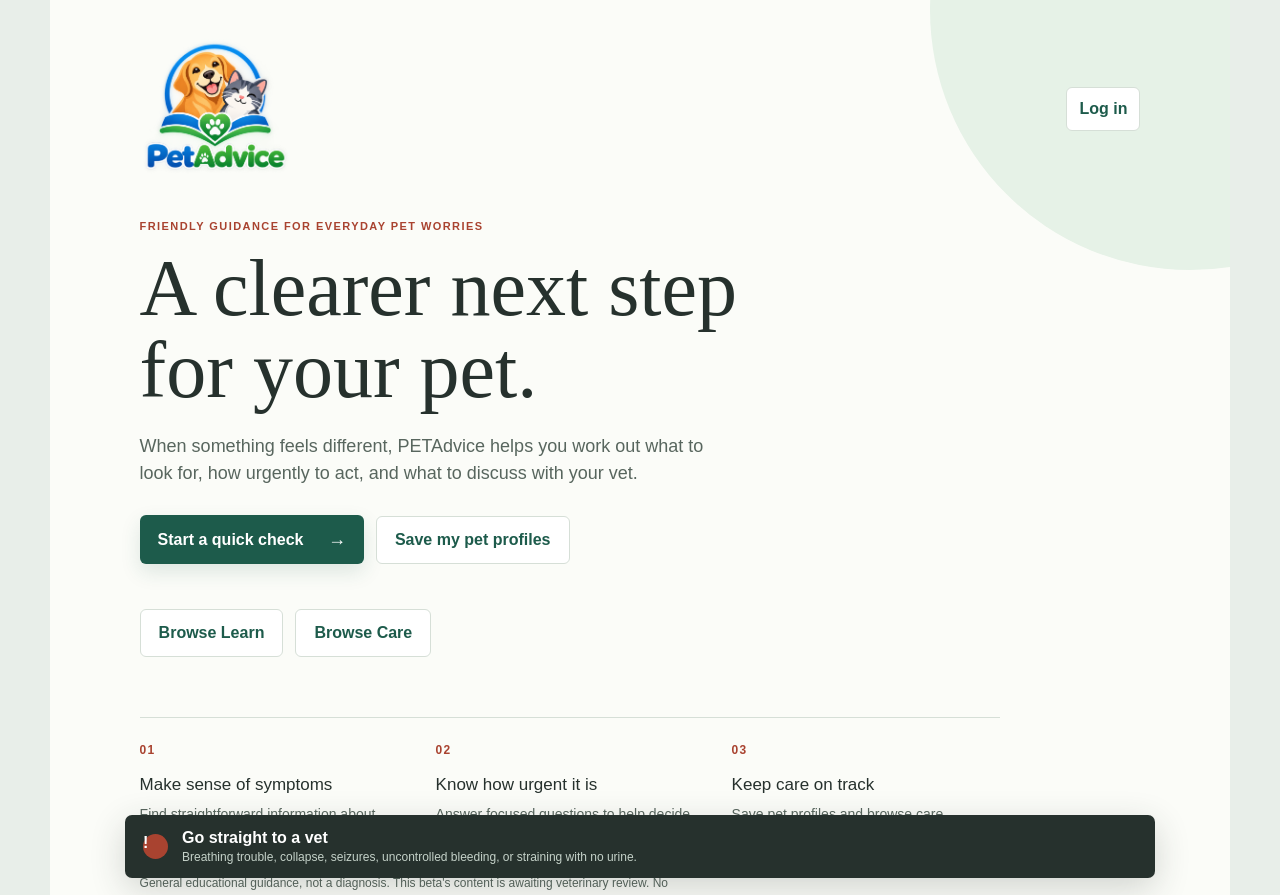
Test case: forgot password shows a neutral response without trying to sign in
Click the button "Log in" at point(1103, 109), box left=1066, top=87, right=1140, bottom=131
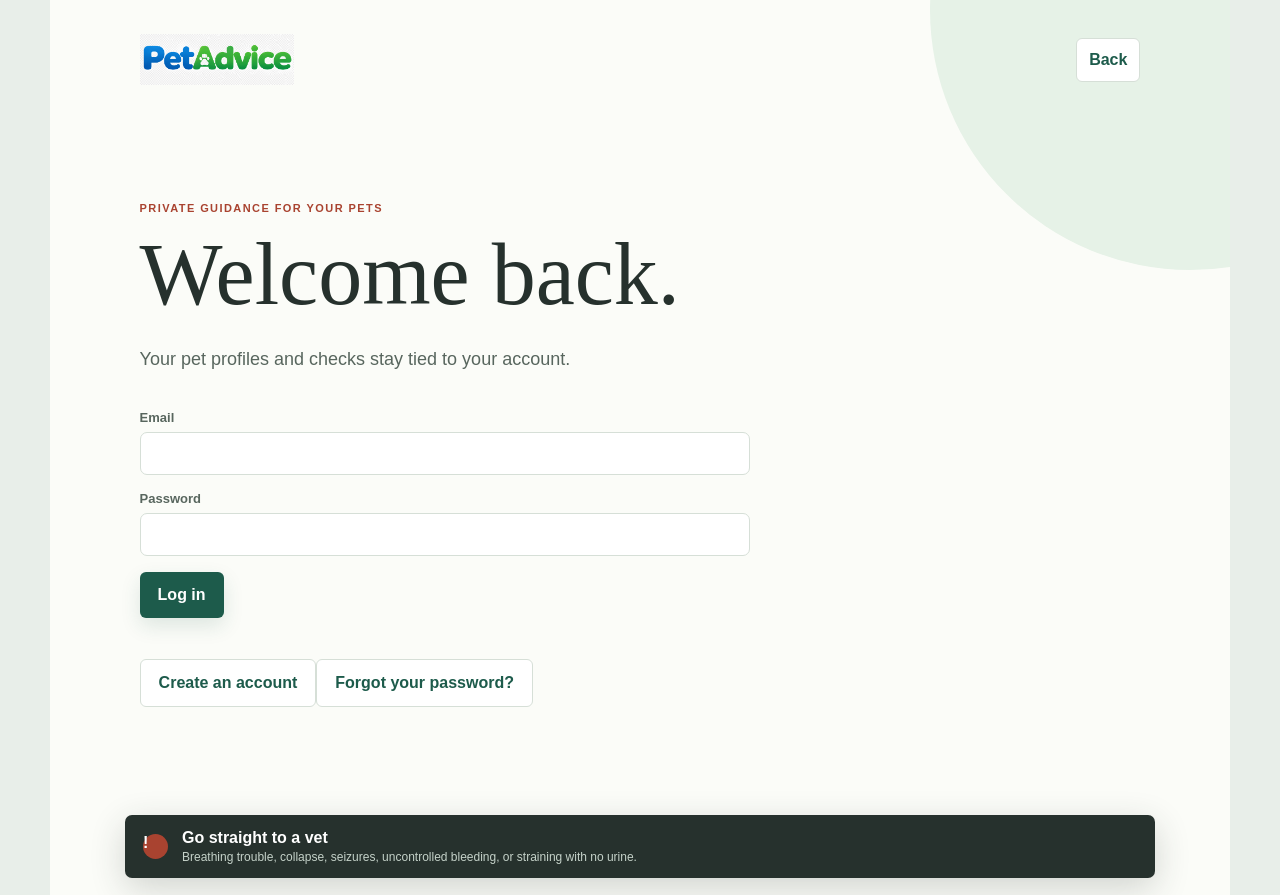
Click the button "Forgot your password?" at point(425, 683), box left=316, top=659, right=533, bottom=707
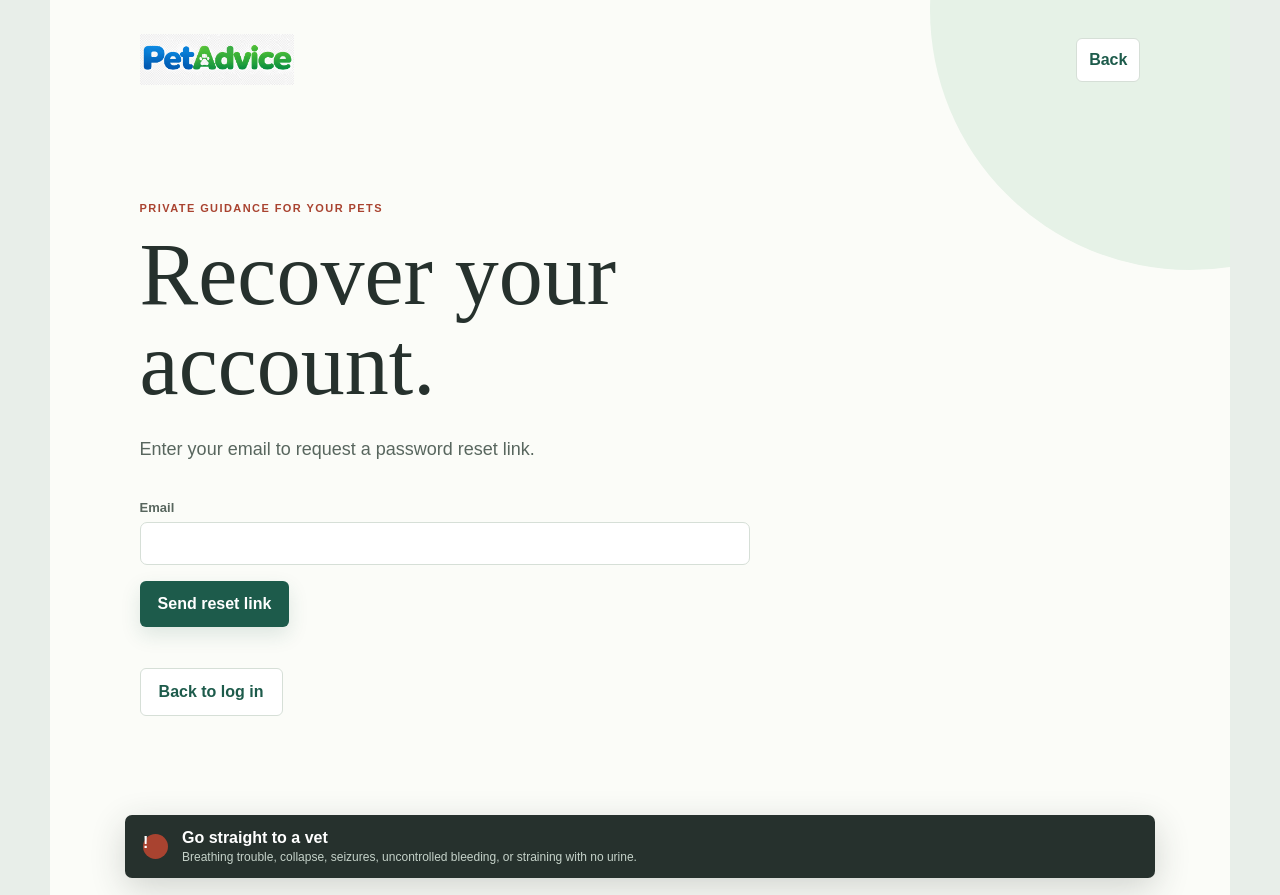
Type "someone@example.com" into the field labelled "Email" at point(445, 543), box left=140, top=522, right=750, bottom=565
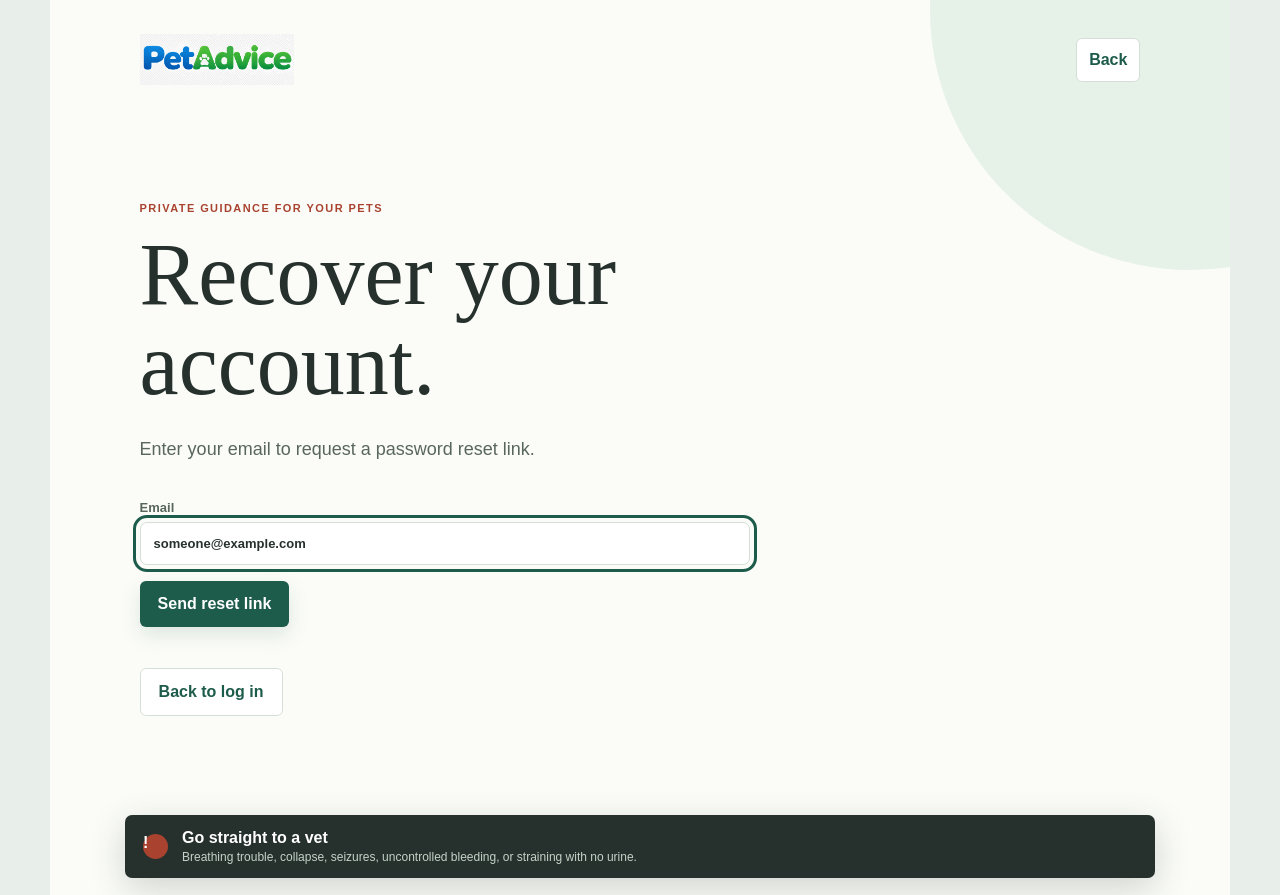
Click the button "Send reset link" at point(214, 604), box left=140, top=581, right=289, bottom=627
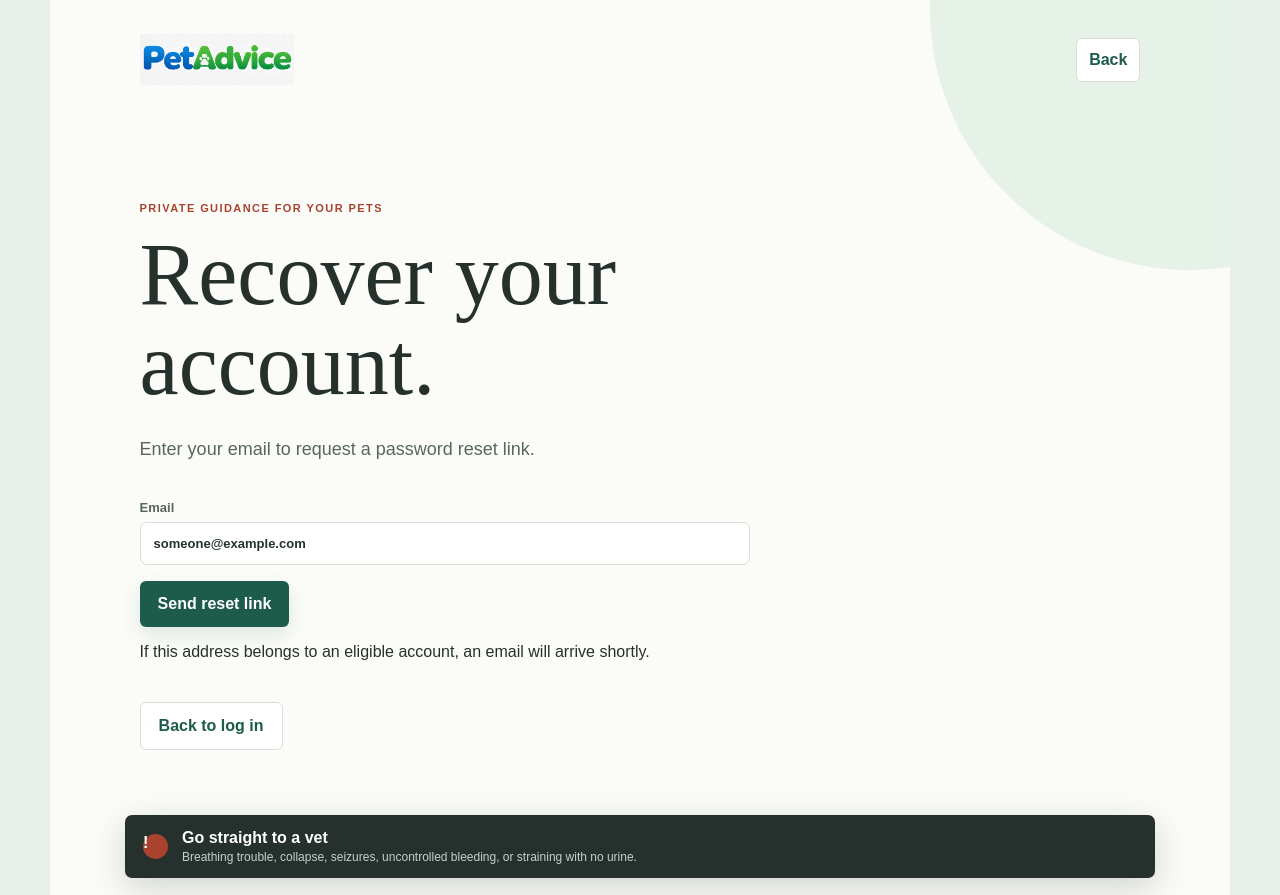
Expected: the text "If this address belongs to an eligible account, an email will arrive shortly." is shown, left=140, top=643, right=650, bottom=660
